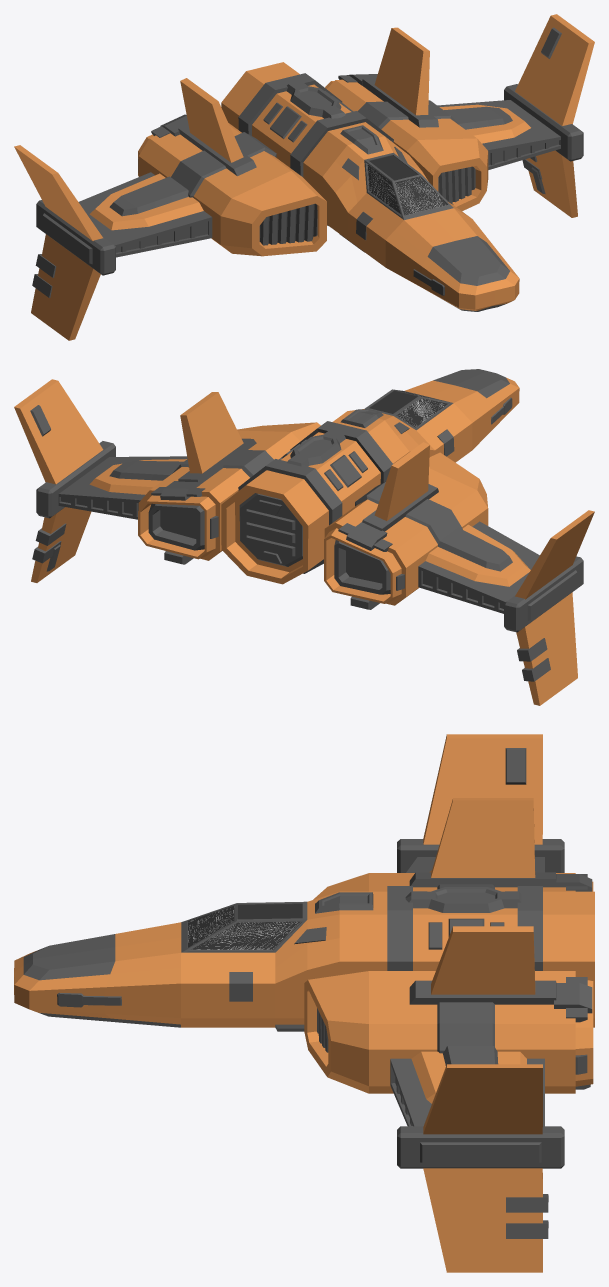
Rendered from SpaceFighter.fbx.
3 views of the same model, one above another, from view 1: azimuth 30°, elevation 25°; view 2: azimuth 150°, elevation 25°; view 3: azimuth 270°, elevation 25° (orthographic). The views are drawn at different scales.
Visible parts, largest first — view 1: Fuselage, Canopy; view 2: Fuselage, Canopy, Exhaust; view 3: Fuselage, Canopy.
Boxes of the visible parts, bbox=[...] form: Fuselage: bbox=[14, 14, 594, 340]; Canopy: bbox=[364, 152, 453, 220]; Fuselage: bbox=[14, 369, 594, 705]; Canopy: bbox=[364, 389, 453, 430]; Exhaust: bbox=[160, 510, 382, 583]; Fuselage: bbox=[14, 734, 594, 1272]; Canopy: bbox=[181, 901, 307, 952].
Size of the model in its own units: 1618 by 572 by 1190.
